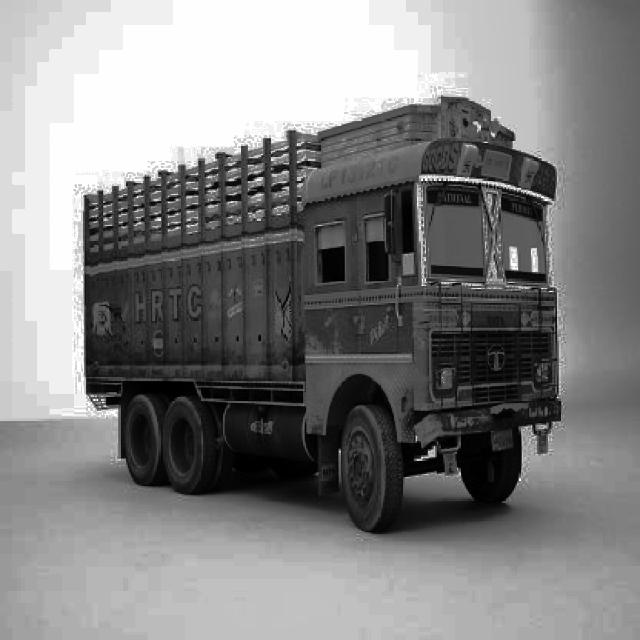HCV: (64, 119, 532, 498)
